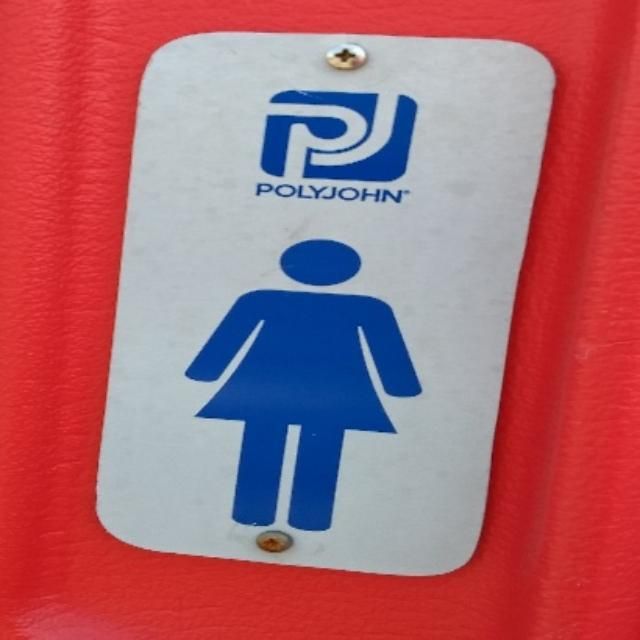womens_restroom: (186, 239, 420, 528)
